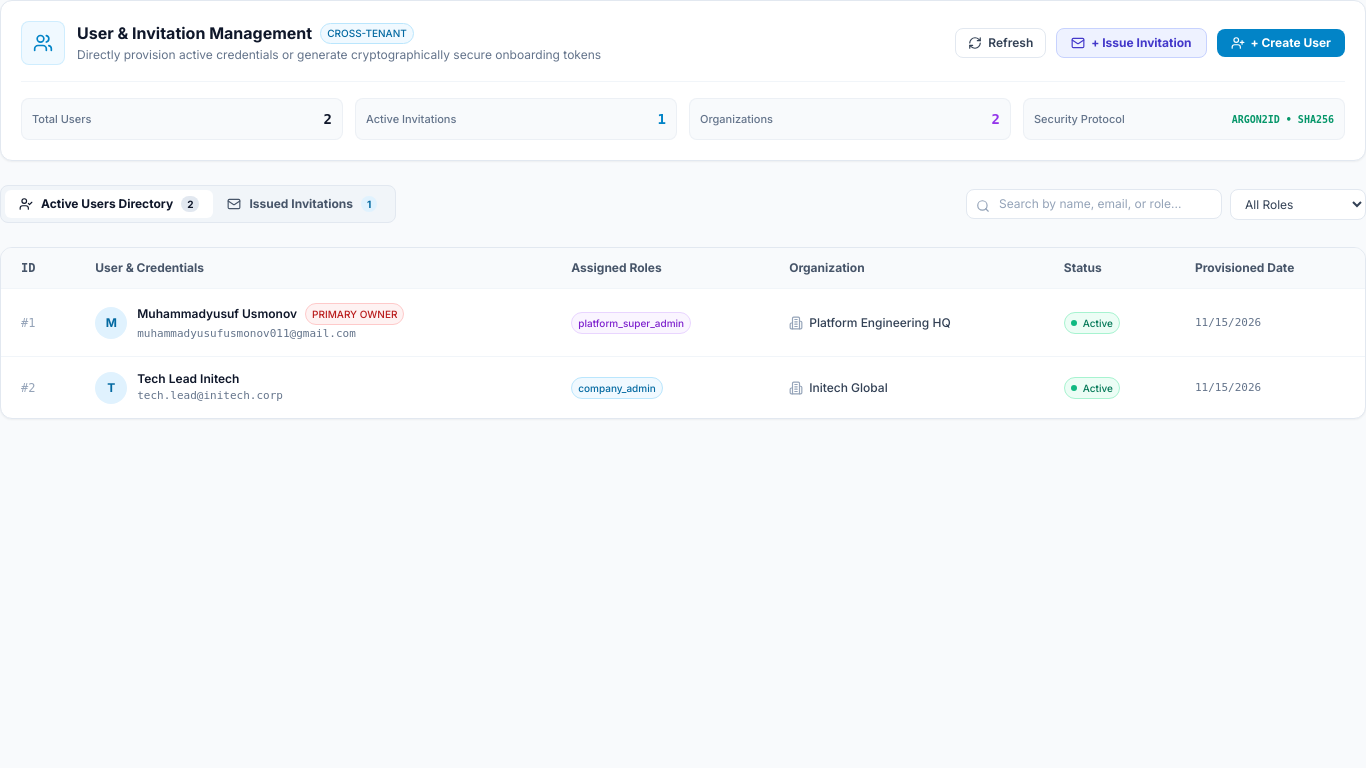
Test: UserAndInvitationManagementSection Component › switches to Issued Invitations tab and generates an invitation token with copyable banner
Switch to Invitations tab
Click the text "Issued Invitations": [301, 204] box [249,196,353,212]
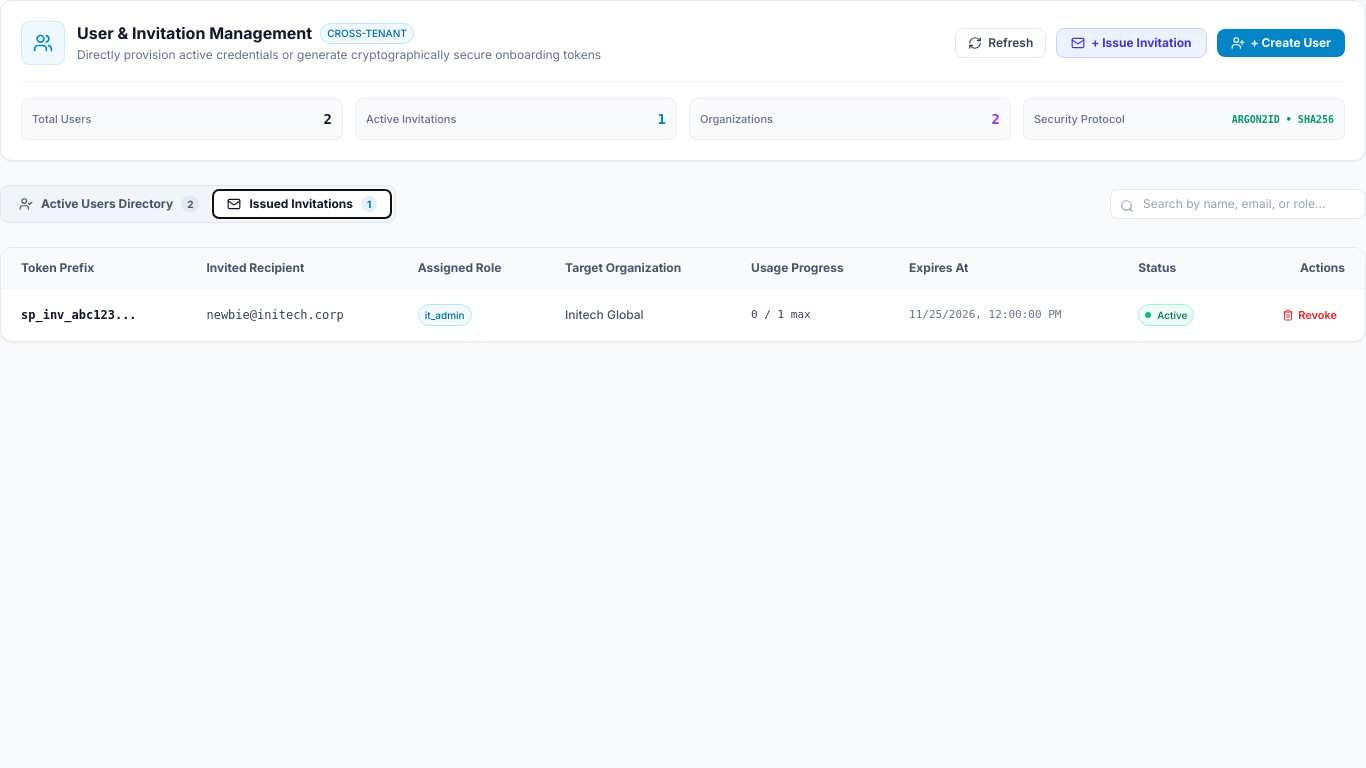
Expected: the text "sp_inv_abc123..." is shown, [1,288,186,341]
Expected: the text "newbie@initech.corp" is shown, [206,308,344,322]
Click "+ Issue Invitation"
Click the button "+ Issue Invitation": [1131, 43] box [1056,28,1206,58]
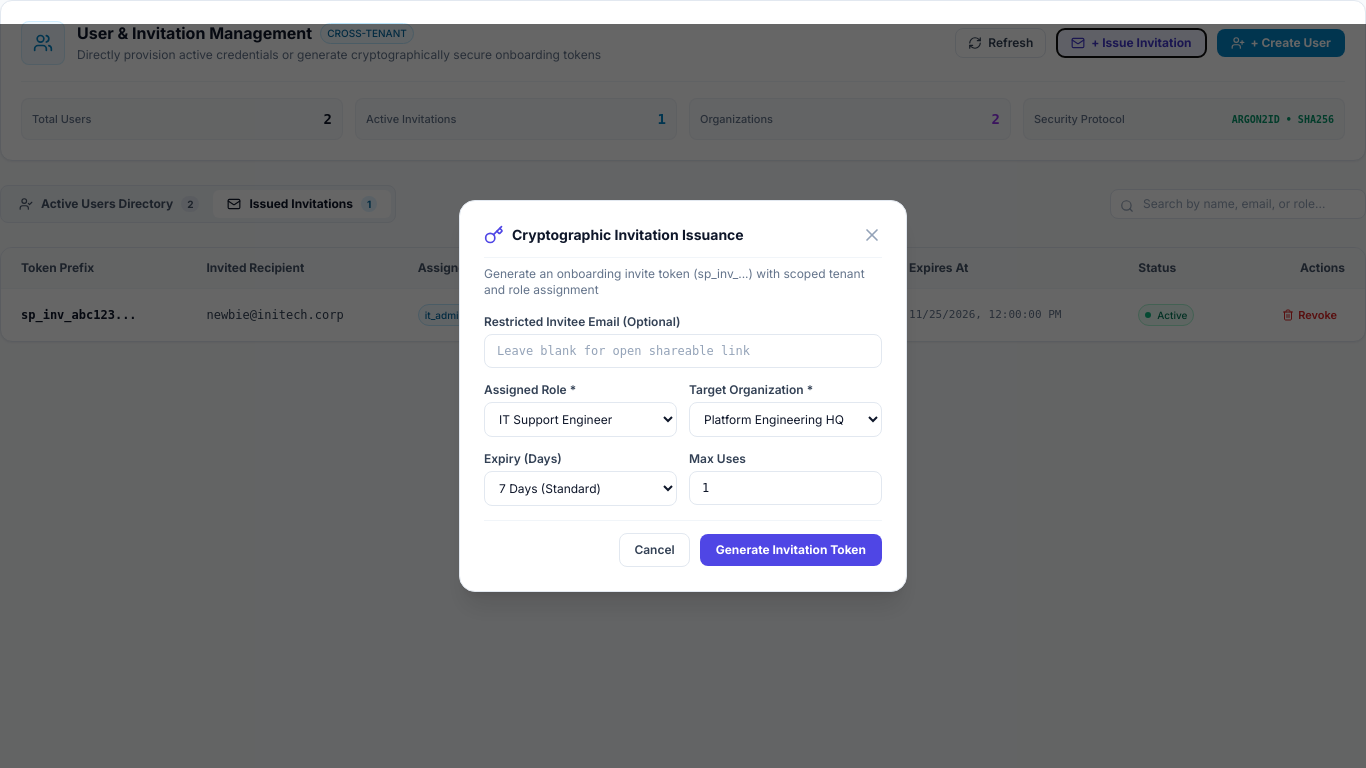
Expected: the heading "Cryptographic Invitation Issuance" is shown, [512,225,744,245]
Select role
Select "IT Administrator (NOC)" in the dropdown with test id "invite-role-select": [580, 420] box [484,402,677,437]
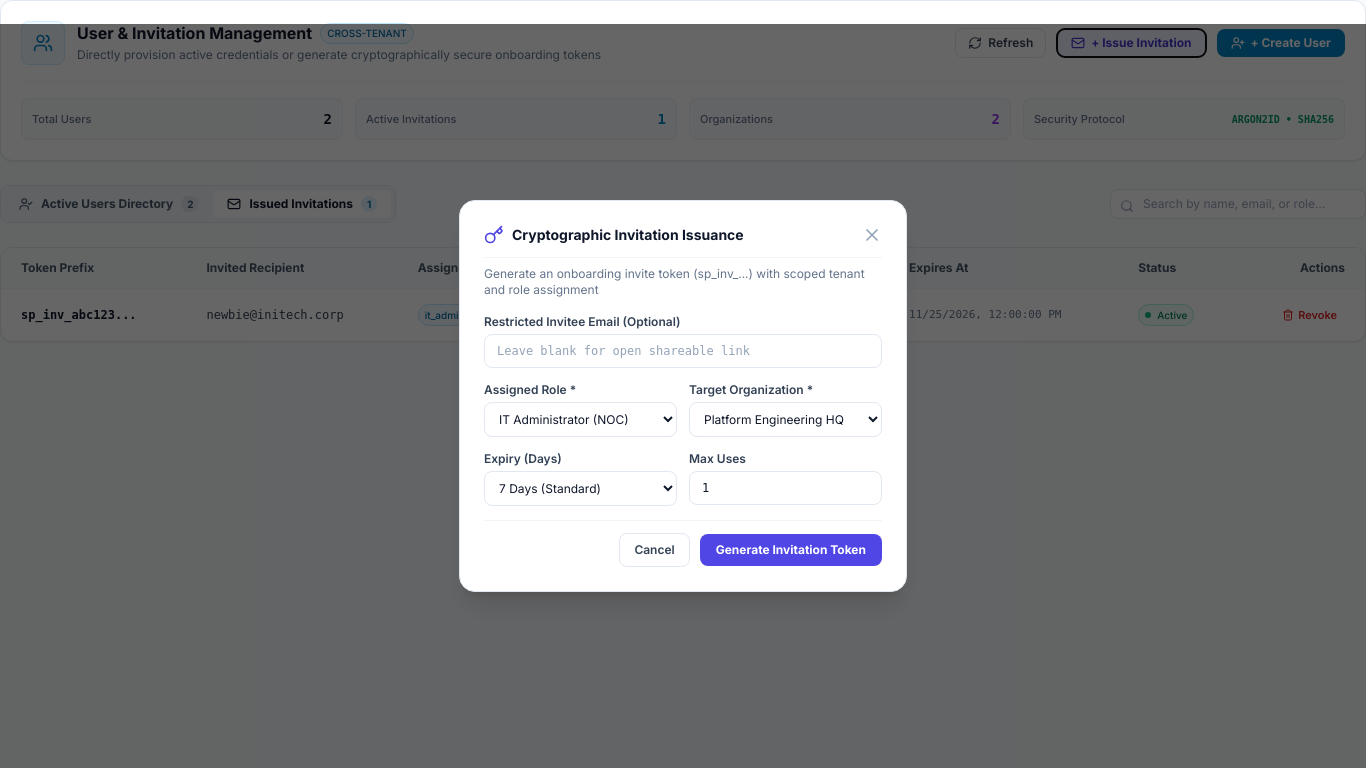
Click the button "Generate Invitation Token": [791, 550] box [700,534,882,566]
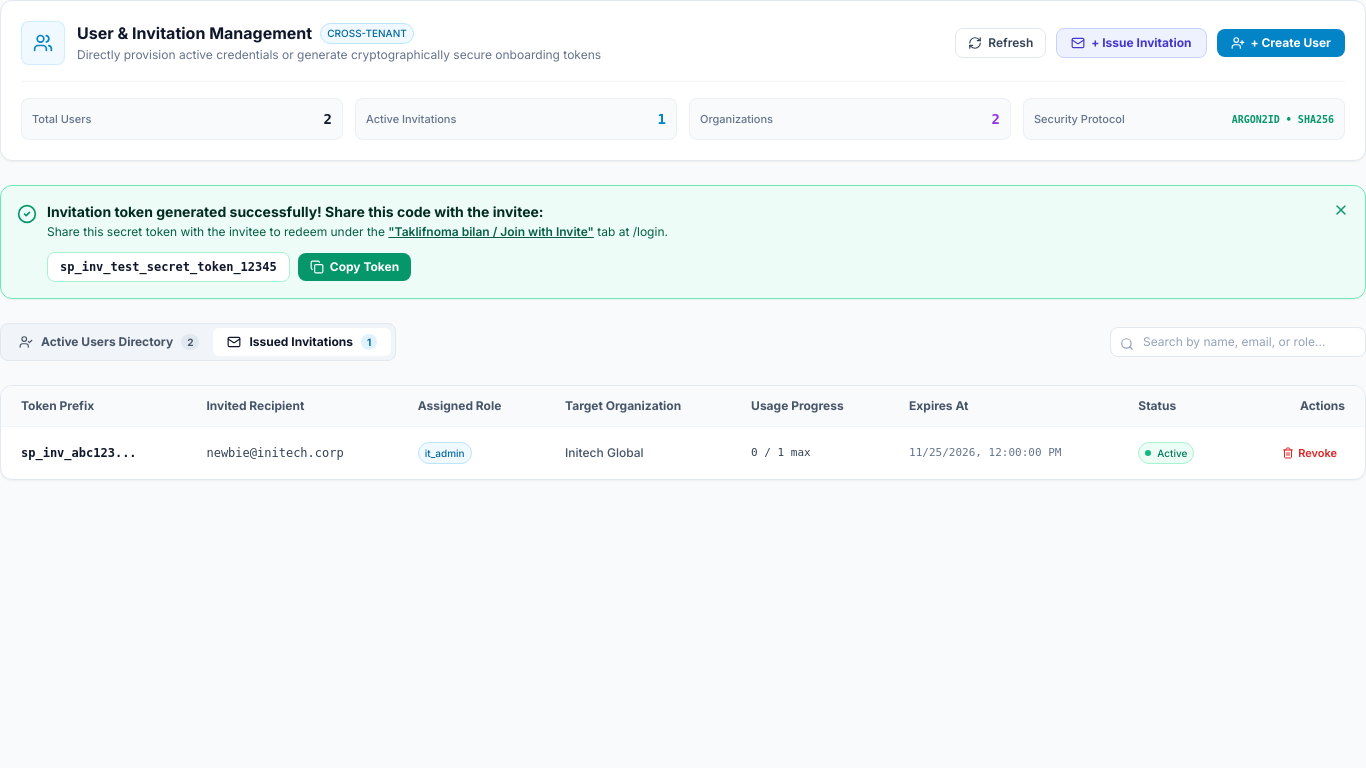
Expected: the text "sp_inv_test_secret_token_12345" is shown, [60,259,277,275]
Expected: the button "Copy Token" is shown, [298,253,411,281]
